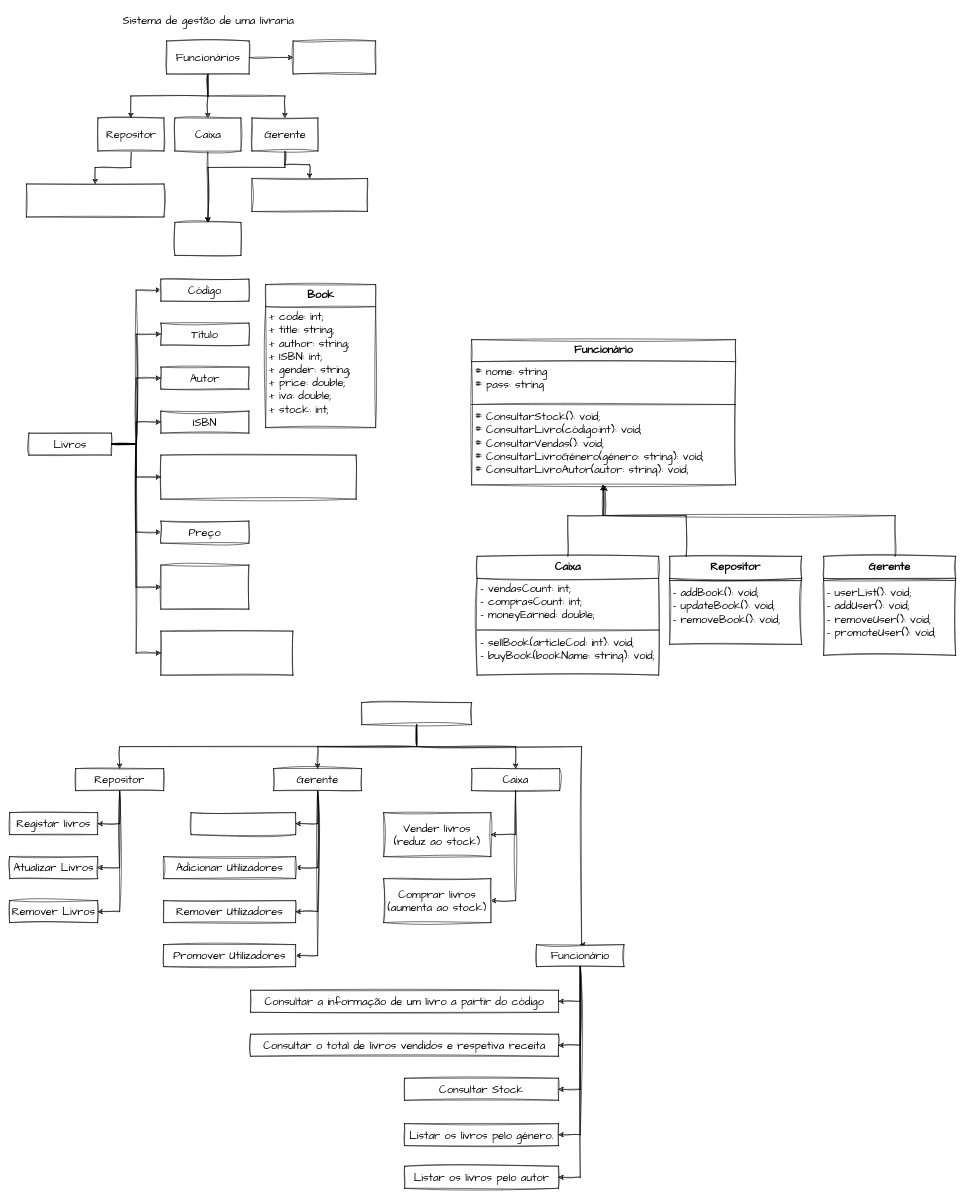
This 965x1198 diagram has some shape labels left out. Here are the shapes that lost their labels. From the top down, the centre of each, then its label:
(x=334, y=57): Precisam de fazer login
(x=95, y=200): Pode adicionar novos produtos ao stock
(x=309, y=194): Criar e eliminar outros funcionários
(x=207, y=238): Pode vender
(x=258, y=477): Género (Romance, Ciência, Ensino, Policial, ...)
(x=204, y=587): Taxa IVA (6%, 23%)
(x=226, y=653): Stock (Quantidade existente)
(x=416, y=713): Métodos
(x=243, y=823): Listar Utilizadores
